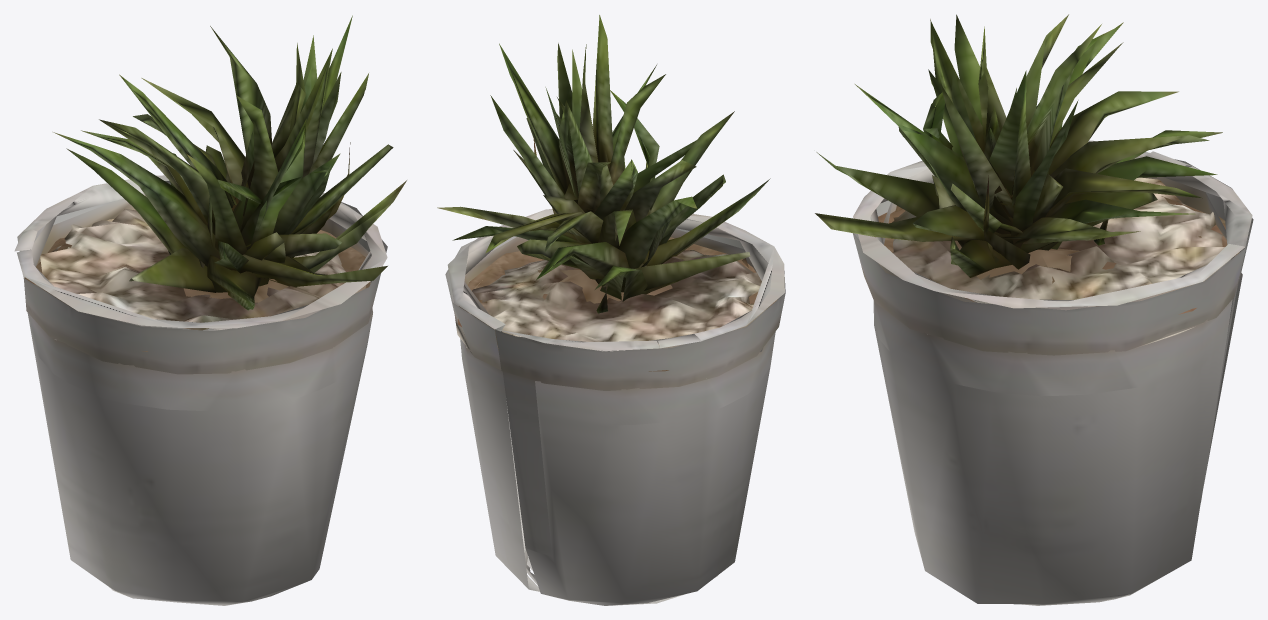
The model's file is potted_plant_04.glb.
The picture shows the model from 3 angles, left to right: view 1: azimuth 30°, elevation 25°; view 2: azimuth 150°, elevation 25°; view 3: azimuth 270°, elevation 25°; orthographic projection. The views are drawn at different scales.
Parts seen in each view (by area): view 1: potted_plant_04_ground; view 2: potted_plant_04_ground; view 3: potted_plant_04_ground.
Part boxes in pixels (bbox=[...]): potted_plant_04_ground: bbox=[14, 15, 406, 605]; potted_plant_04_ground: bbox=[437, 15, 785, 605]; potted_plant_04_ground: bbox=[815, 14, 1253, 605].
Bounding box in the file's own units: 0.168 × 0.2695 × 0.1853.
Materials: 1 (1 with a texture image).
